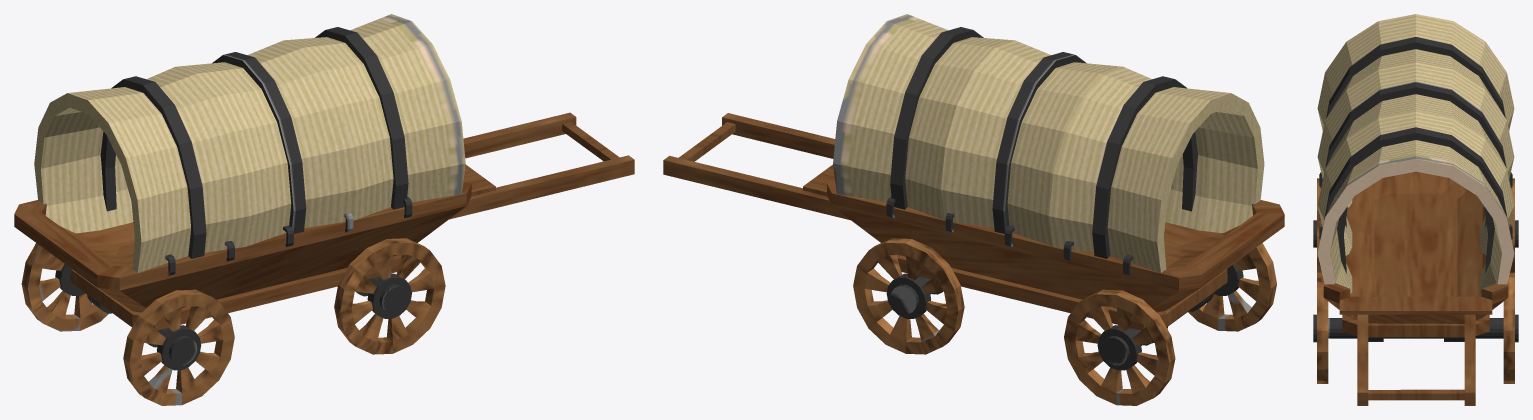
File: Carregamento.fbx
3 views of the same model, side by side, from view 1: azimuth 30°, elevation 25°; view 2: azimuth 150°, elevation 25°; view 3: azimuth 270°, elevation 25° (orthographic). The views are drawn at different scales.
Visible parts, largest first — view 1: Carroca; view 2: Carroca; view 3: Carroca.
Part boxes in pixels (box(x1,y1,x2,y2)): Carroca: box(14, 14, 634, 405); Carroca: box(663, 14, 1284, 405); Carroca: box(1313, 14, 1518, 405).
Size of the model in its own units: 750 by 363 by 266.
